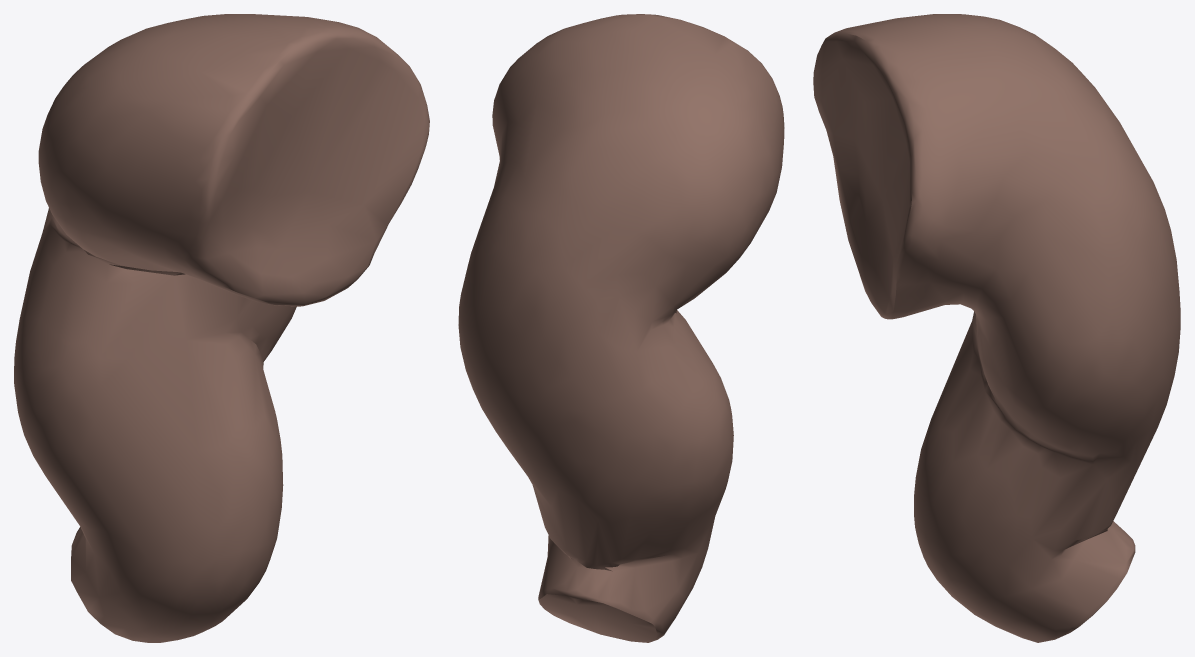
File: rectum.glb
3 renders of one model, left to right at view 1: azimuth 30°, elevation 25°; view 2: azimuth 150°, elevation 25°; view 3: azimuth 270°, elevation 25°, orthographic. The views are drawn at different scales.
Visible parts, largest first — view 1: FJ2571_BP49211_FMA14544_Rectum; view 2: FJ2571_BP49211_FMA14544_Rectum; view 3: FJ2571_BP49211_FMA14544_Rectum.
Boxes of the visible parts, bbox=[...] form: FJ2571_BP49211_FMA14544_Rectum: bbox=[14, 14, 429, 642]; FJ2571_BP49211_FMA14544_Rectum: bbox=[458, 14, 784, 642]; FJ2571_BP49211_FMA14544_Rectum: bbox=[813, 14, 1180, 642].
Bounding box in the file's own units: 0.1731 × 0.3232 × 0.1748.
